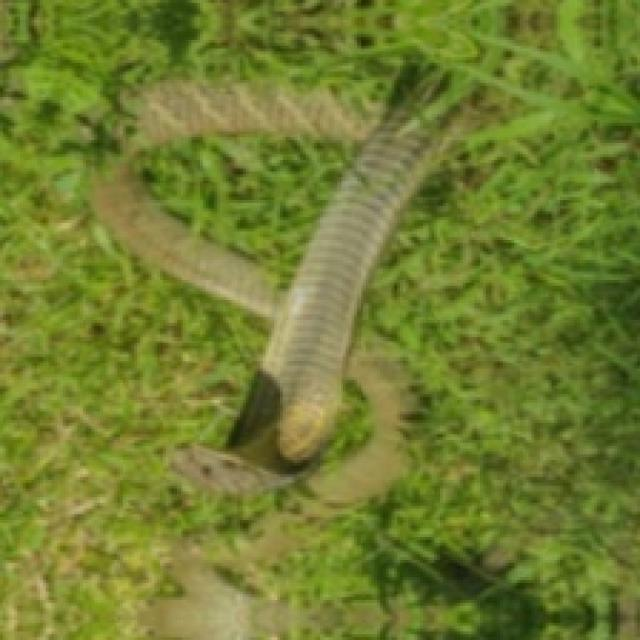king cobra: (91, 63, 449, 491)
